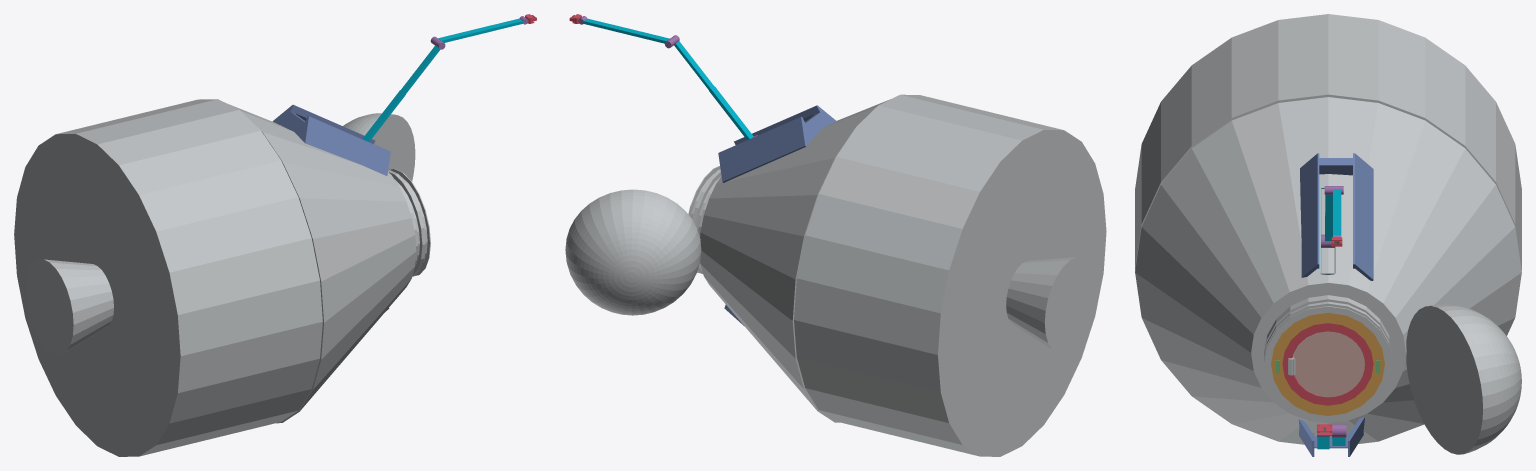
Rendered from asctive.glb.
The picture shows the model from 3 angles, left to right: view 1: azimuth 30°, elevation 25°; view 2: azimuth 150°, elevation 25°; view 3: azimuth 270°, elevation 25°; orthographic projection. The views are drawn at different scales.
Parts seen in each view (by area): view 1: Mesh_Mesh_head_geo.001_lambert2SG.001; view 2: Mesh_Mesh_head_geo.001_lambert2SG.001; view 3: Mesh_Mesh_head_geo.001_lambert2SG.001.
Boxes of the visible parts, left/top/right/bottom form: Mesh_Mesh_head_geo.001_lambert2SG.001: left=14, top=14, right=536, bottom=456; Mesh_Mesh_head_geo.001_lambert2SG.001: left=565, top=14, right=1106, bottom=456; Mesh_Mesh_head_geo.001_lambert2SG.001: left=1135, top=14, right=1521, bottom=456.
Bounding box in the file's own units: 173 × 109 × 102.
